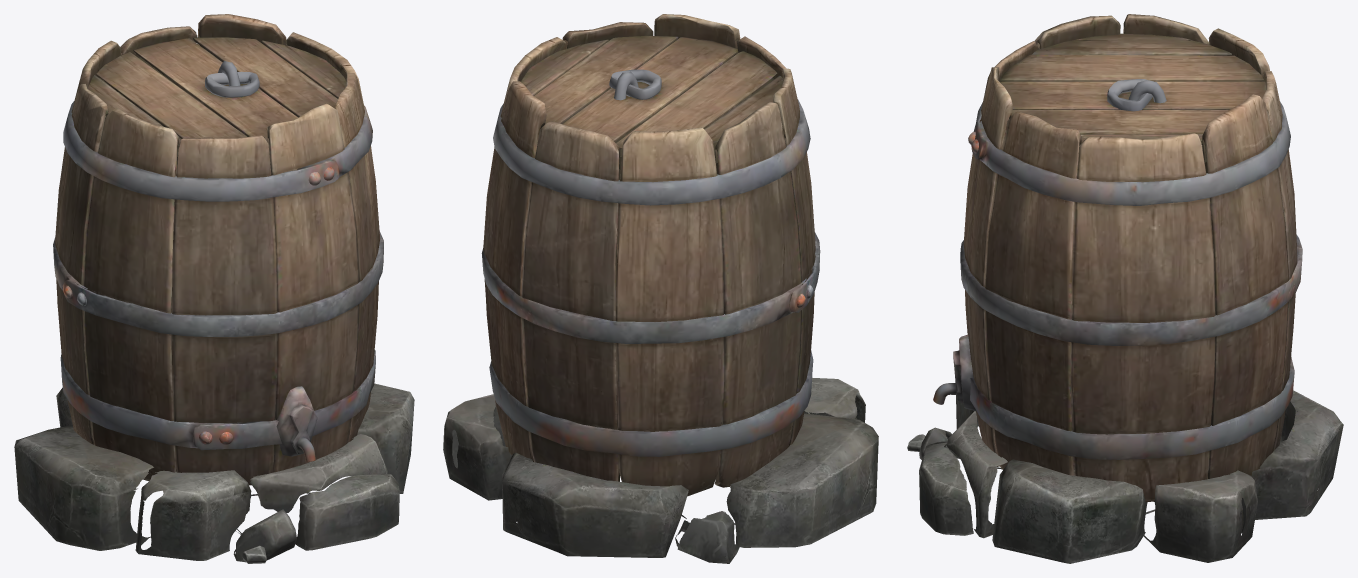
3 views of the same model, side by side, from view 1: azimuth 30°, elevation 25°; view 2: azimuth 150°, elevation 25°; view 3: azimuth 270°, elevation 25° (orthographic). The views are drawn at different scales.
Parts seen in each view (by area): view 1: SM_WaterBarrel_02_LOD0; view 2: SM_WaterBarrel_02_LOD0; view 3: SM_WaterBarrel_02_LOD0.
Part boxes in pixels (box(x1,y1,x2,y2)): SM_WaterBarrel_02_LOD0: box(14, 14, 414, 563); SM_WaterBarrel_02_LOD0: box(443, 14, 878, 563); SM_WaterBarrel_02_LOD0: box(907, 14, 1343, 563).
Bounding box in the file's own units: 1.5 × 1.7 × 1.55.
Materials: 2 (2 with a texture image).
